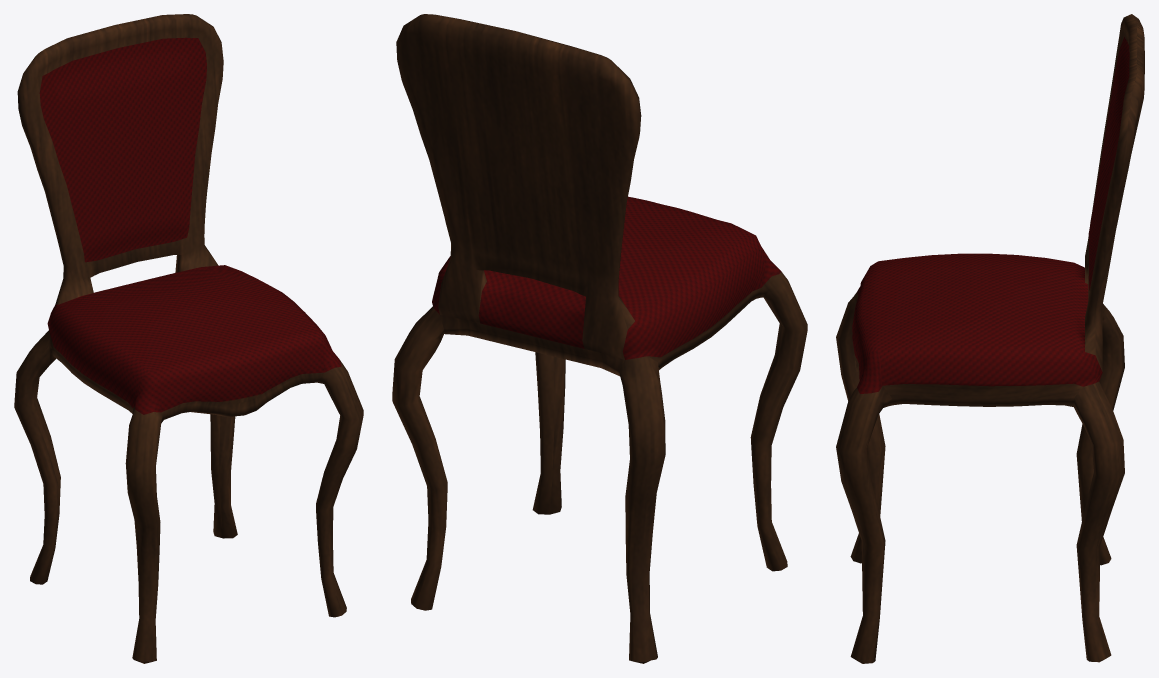
Rendered from chair_dining.fbx.
3 renders of one model, left to right at view 1: azimuth 30°, elevation 25°; view 2: azimuth 150°, elevation 25°; view 3: azimuth 270°, elevation 25°, orthographic. The views are drawn at different scales.
Parts seen in each view (by area): view 1: chair_dining; view 2: chair_dining; view 3: chair_dining.
Part boxes in pixels (box(x1,y1,x2,y2)): chair_dining: box(14, 14, 363, 663); chair_dining: box(392, 14, 807, 663); chair_dining: box(836, 14, 1144, 663).
Bounding box in the file's own units: 55.17 × 116 × 57.68.
